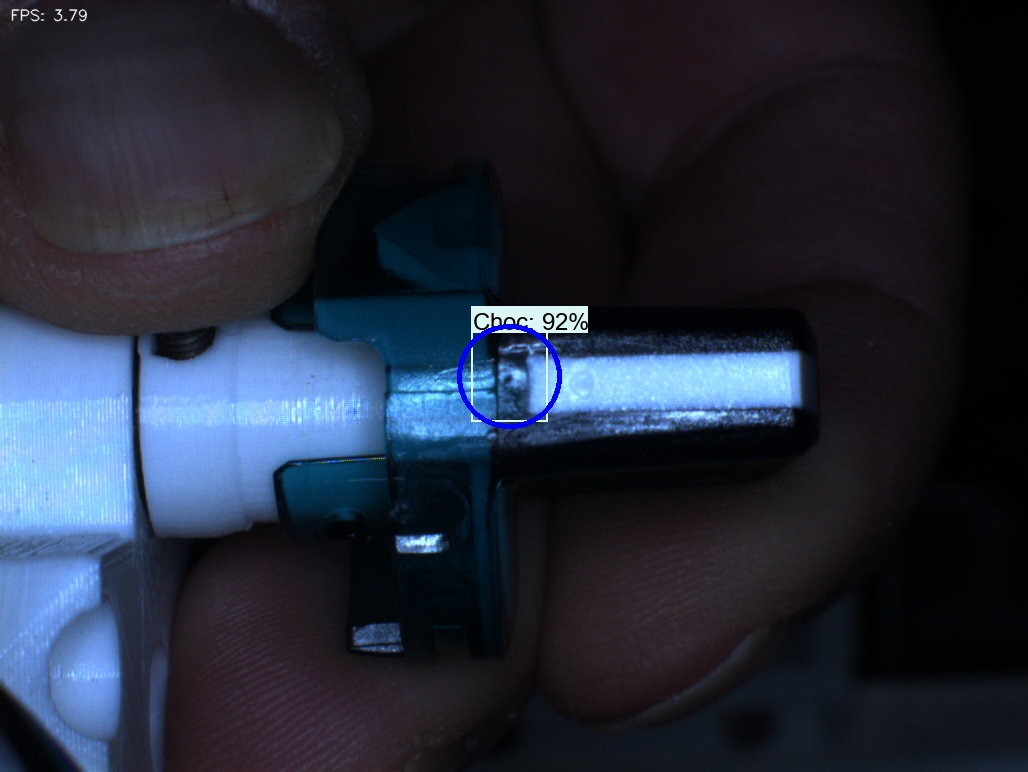DentOk: (347, 201, 409, 291)
